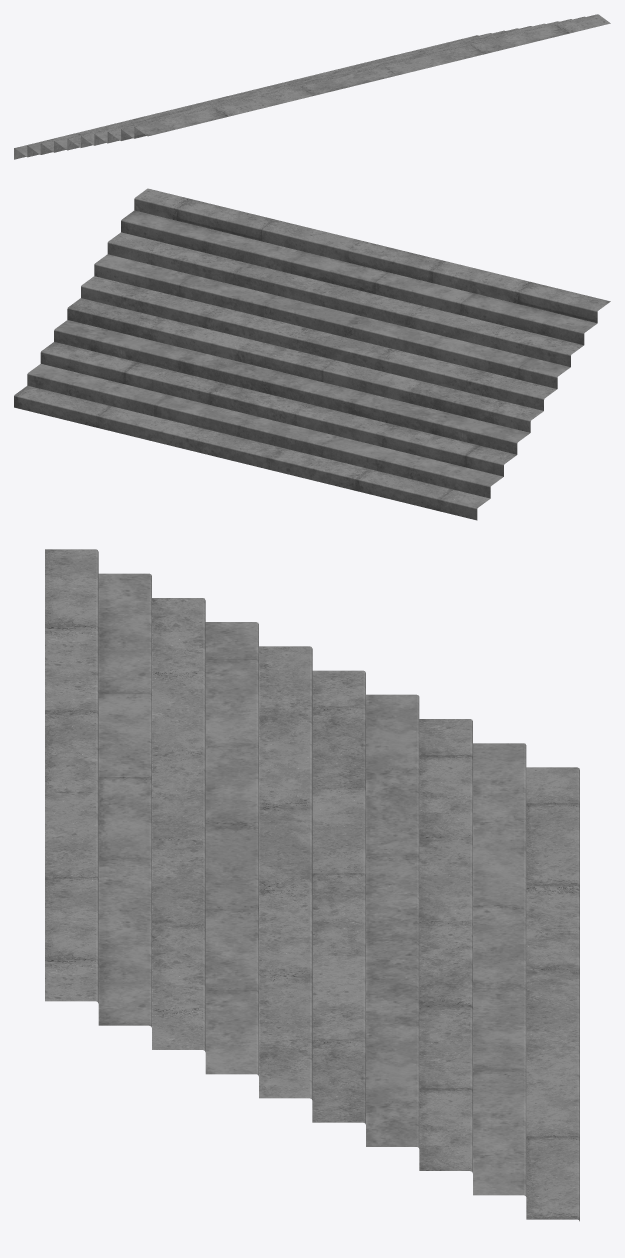
The model's file is SM_Steps_01.fbx.
3 views of the same model, one above another, from view 1: azimuth 30°, elevation 25°; view 2: azimuth 150°, elevation 25°; view 3: azimuth 270°, elevation 25° (orthographic). The views are drawn at different scales.
Parts seen in each view (by area): view 1: SM_Steps_01; view 2: SM_Steps_01; view 3: SM_Steps_01.
Part boxes in pixels (x1,y1,x2,y2): SM_Steps_01: (14,14,610,159); SM_Steps_01: (14,188,610,520); SM_Steps_01: (45,549,579,1221).
Bounding box in the file's own units: 800 × 200 × 400.
